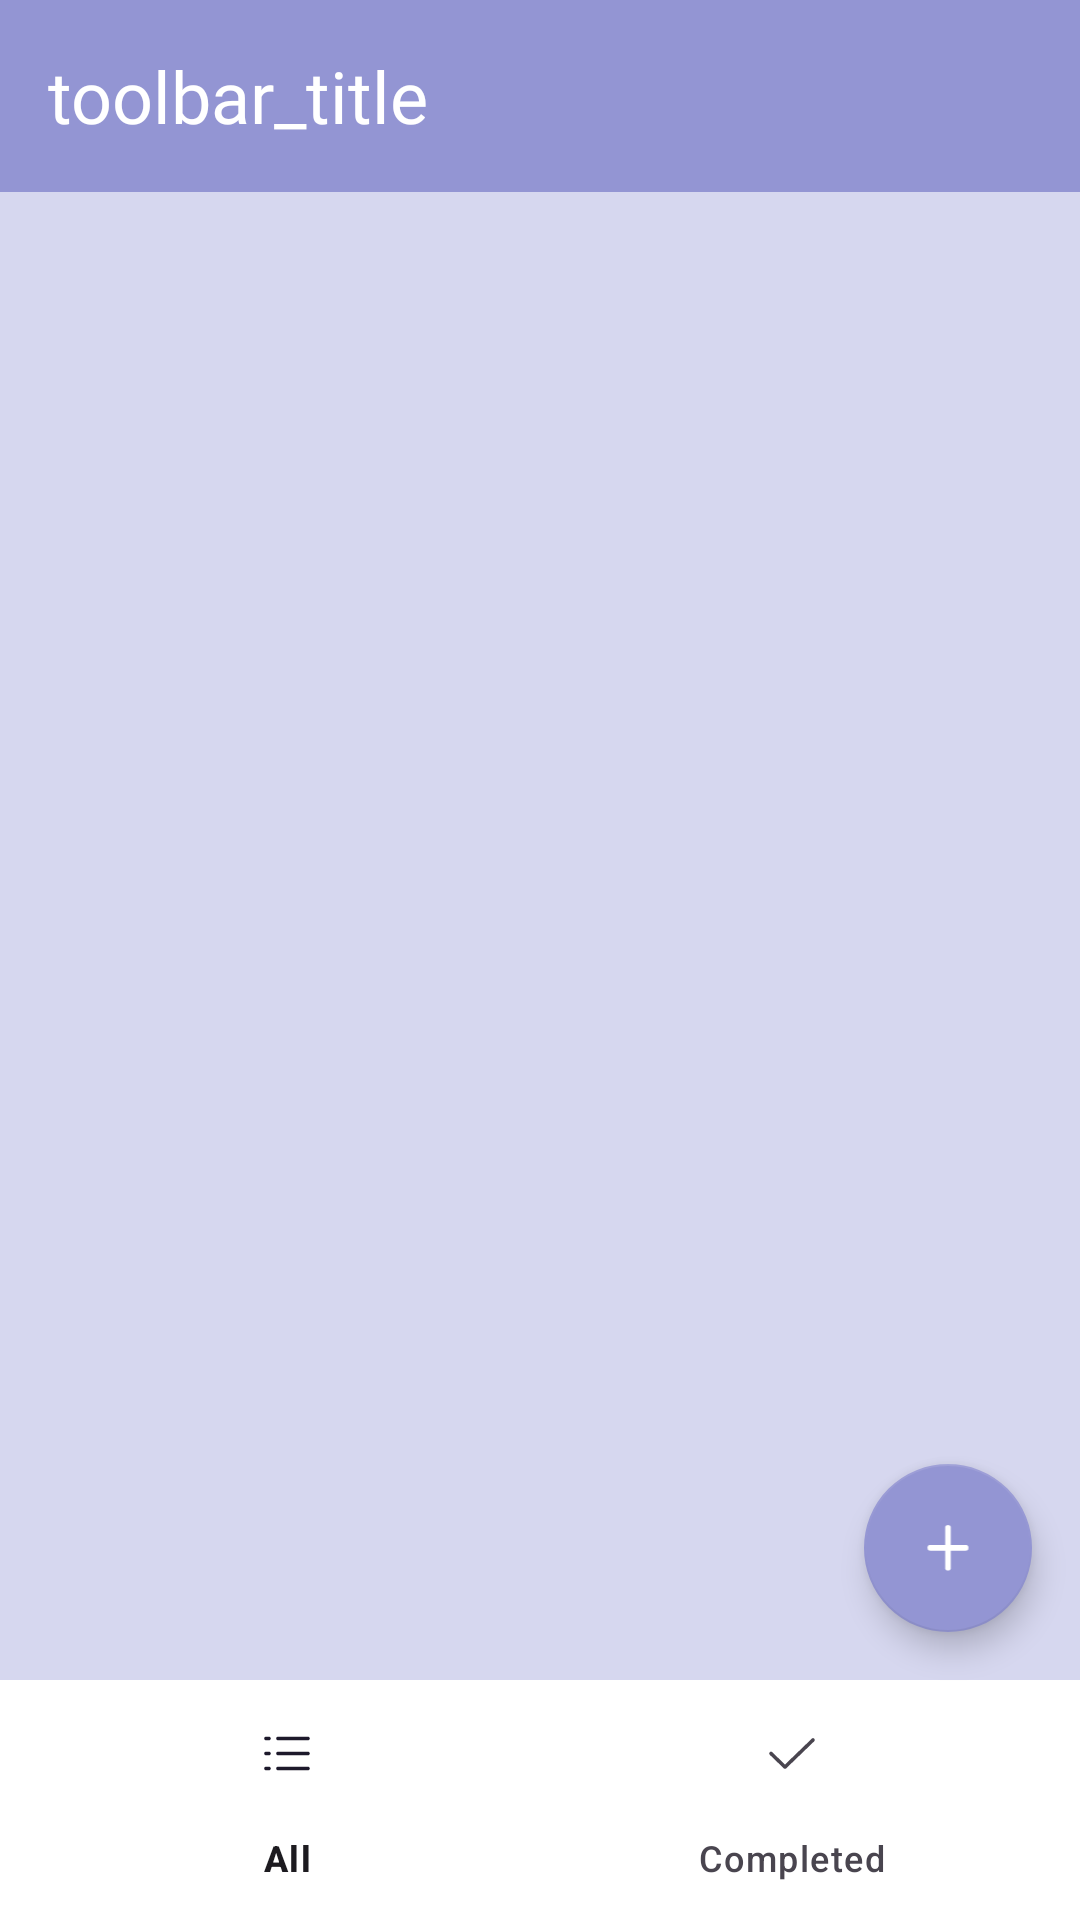

Screen size 1080px×1920px. Icon name, then its center in pixels as (x=x, y=y):
Add Task: (x=948, y=1548)
